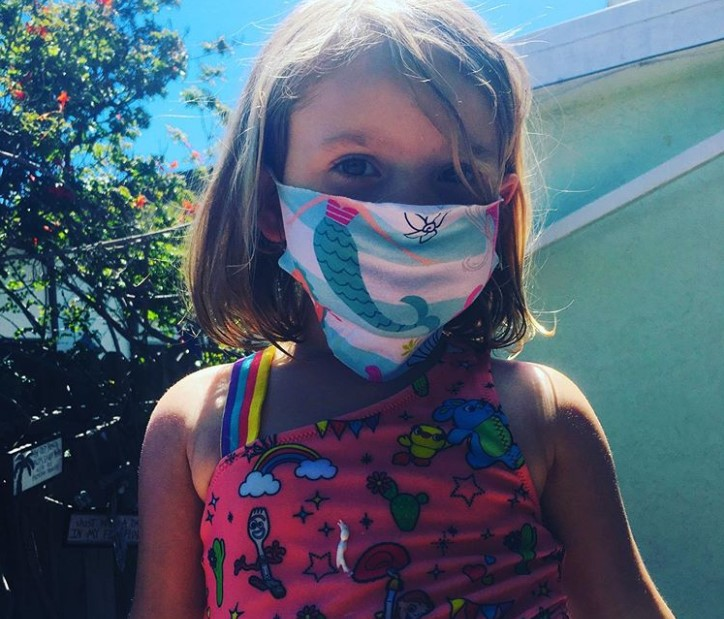face_with_mask: (252, 0, 526, 389)
